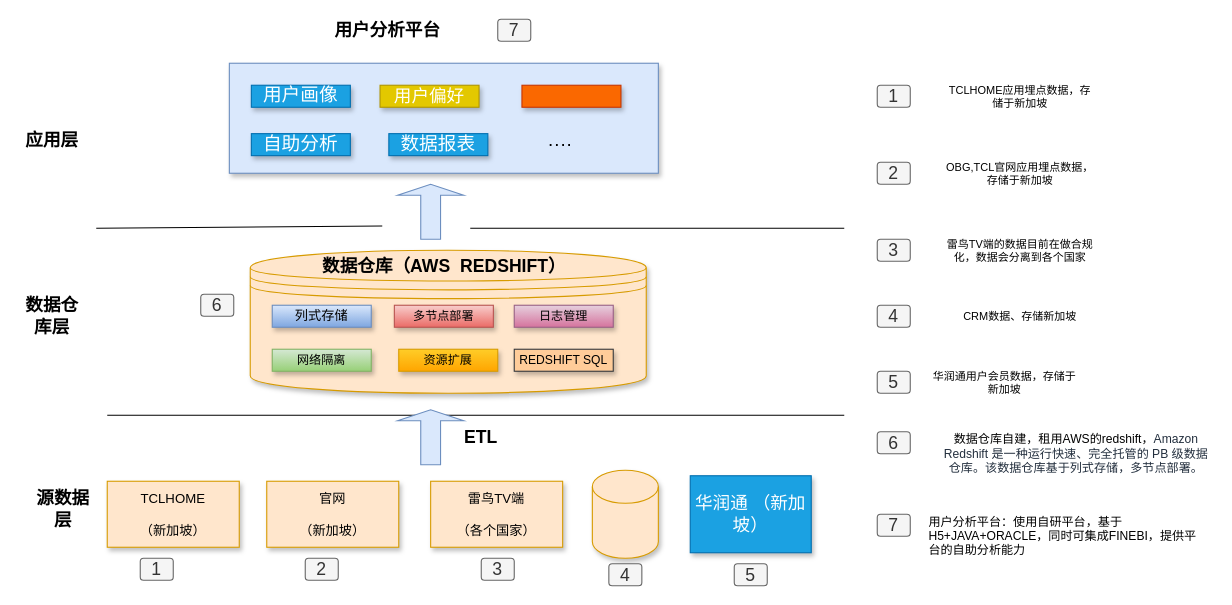
The diagram is 1232 pixels wide and 605 high, and some of its shapes have lost their labels. The centre of each missing label's shape, as x and y in pixels:
"CRM （新加坡）" belongs at (626,515).
"用户漏斗" belongs at (572,97).
